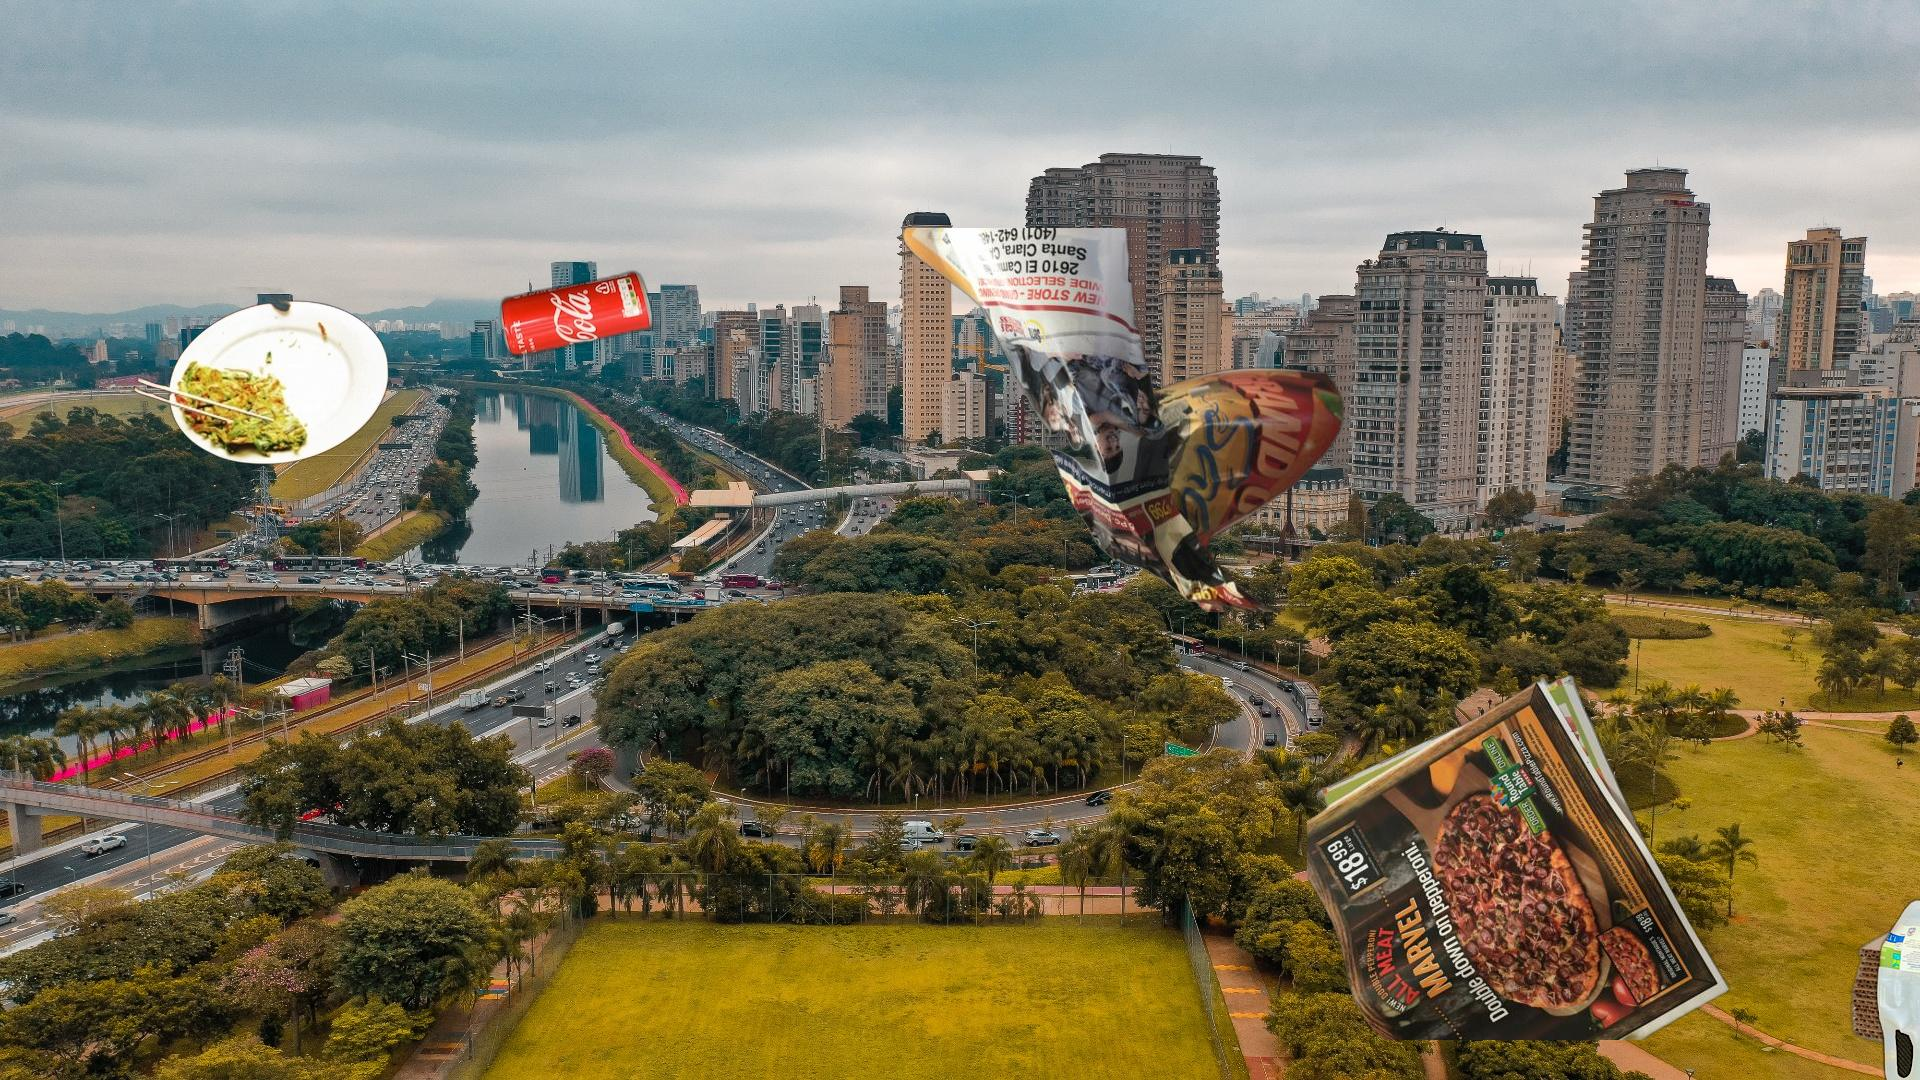biological: (83, 287, 392, 467)
metal-cans: (497, 265, 658, 363)
paper: (899, 228, 1348, 612), (1307, 673, 1733, 1040)
plastic-bottles: (1873, 893, 1920, 1080)
trashbox-cardboard: (1844, 857, 1920, 1080)
